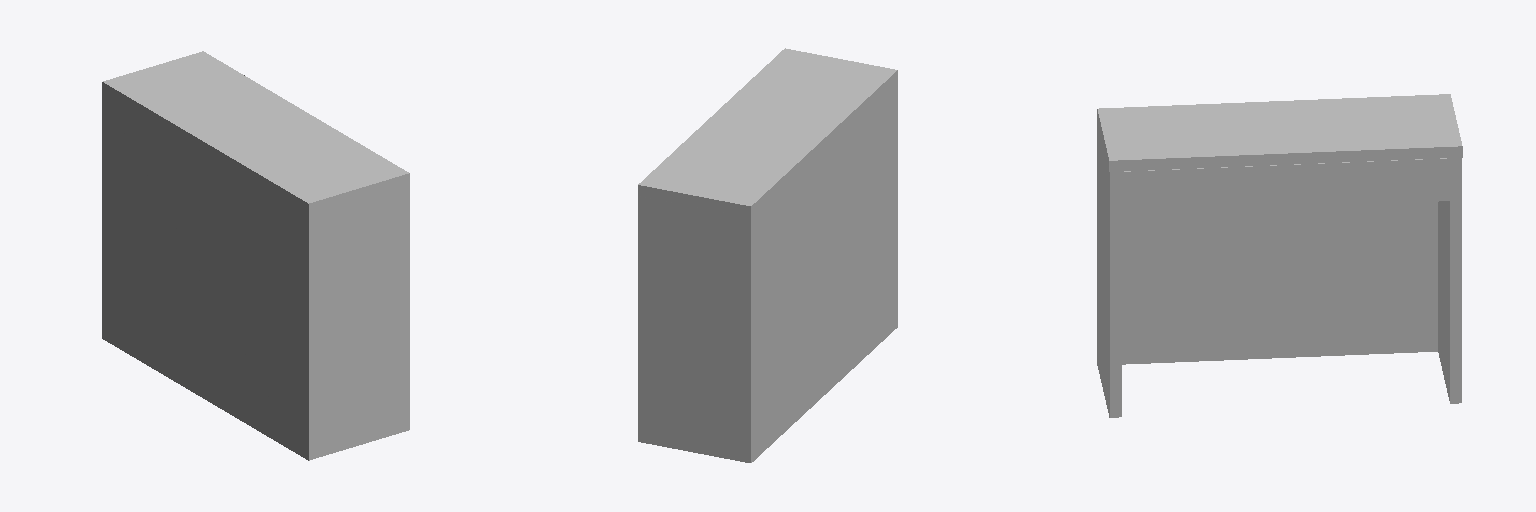
File: escritorio3.obj
The picture shows the model from 3 angles: view 1: azimuth 30°, elevation 25°; view 2: azimuth 150°, elevation 25°; view 3: azimuth 270°, elevation 25°; orthographic projection.
Parts seen in each view (by area): view 1: Table_Bedroom_MOCKA_Jesse_Console_Table; view 2: Table_Bedroom_MOCKA_Jesse_Console_Table; view 3: Table_Bedroom_MOCKA_Jesse_Console_Table.
Part boxes in pixels (bbox=[...]): Table_Bedroom_MOCKA_Jesse_Console_Table: bbox=[102, 51, 409, 460]; Table_Bedroom_MOCKA_Jesse_Console_Table: bbox=[638, 48, 897, 462]; Table_Bedroom_MOCKA_Jesse_Console_Table: bbox=[1097, 94, 1462, 417].
Size of the model in its own units: 0.4458 by 0.8 by 1.03.